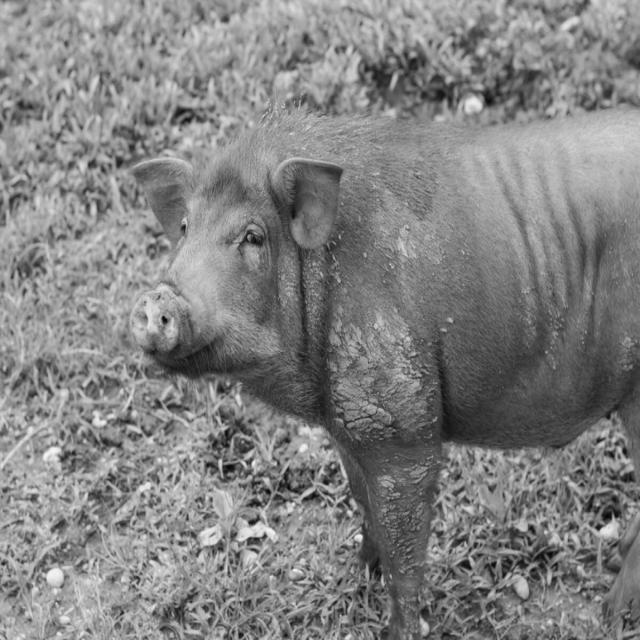boar: (130, 108, 639, 637)
